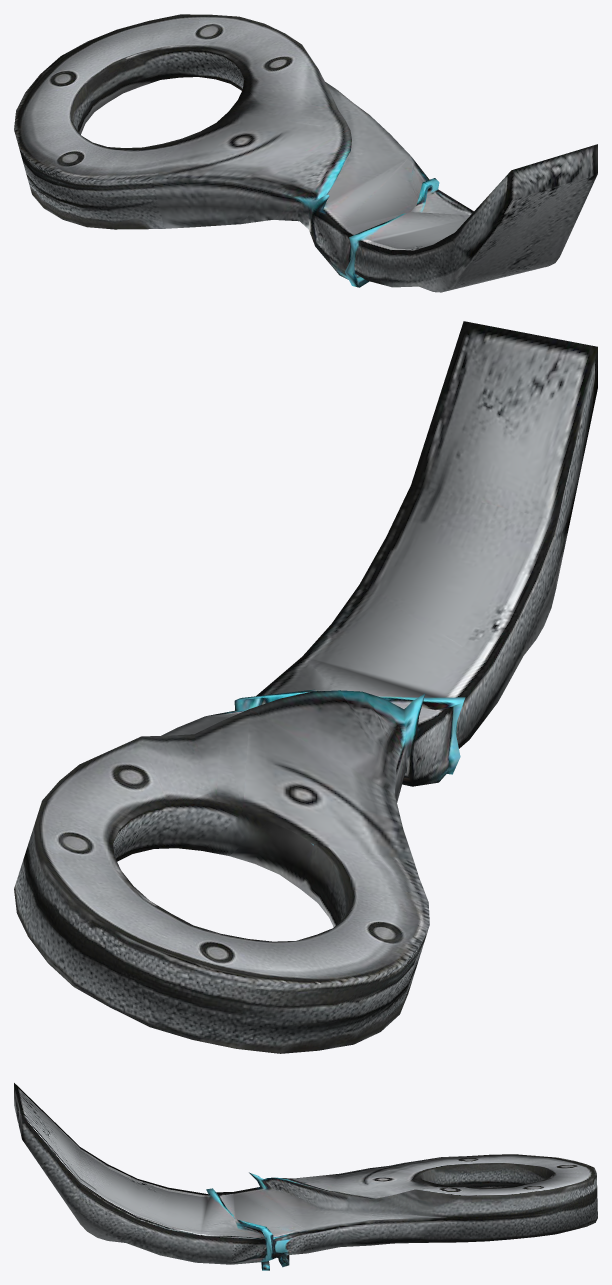
The model's file is 03 junk.glb.
3 renders of one model, top to bottom at view 1: azimuth 30°, elevation 25°; view 2: azimuth 150°, elevation 25°; view 3: azimuth 270°, elevation 25°, orthographic. The views are drawn at different scales.
Visible parts, largest first — view 1: tripo_node_e7d40200-760f-4d99-b5ec-67078b15d673; view 2: tripo_node_e7d40200-760f-4d99-b5ec-67078b15d673; view 3: tripo_node_e7d40200-760f-4d99-b5ec-67078b15d673.
Boxes of the visible parts, left/top/right/bottom form: tripo_node_e7d40200-760f-4d99-b5ec-67078b15d673: left=14, top=14, right=597, bottom=292; tripo_node_e7d40200-760f-4d99-b5ec-67078b15d673: left=14, top=321, right=597, bottom=1053; tripo_node_e7d40200-760f-4d99-b5ec-67078b15d673: left=14, top=1083, right=597, bottom=1270.
Size of the model in its own units: 0.0851 by 0.0702 by 0.2121.
Materials: 1 (1 with a texture image).
